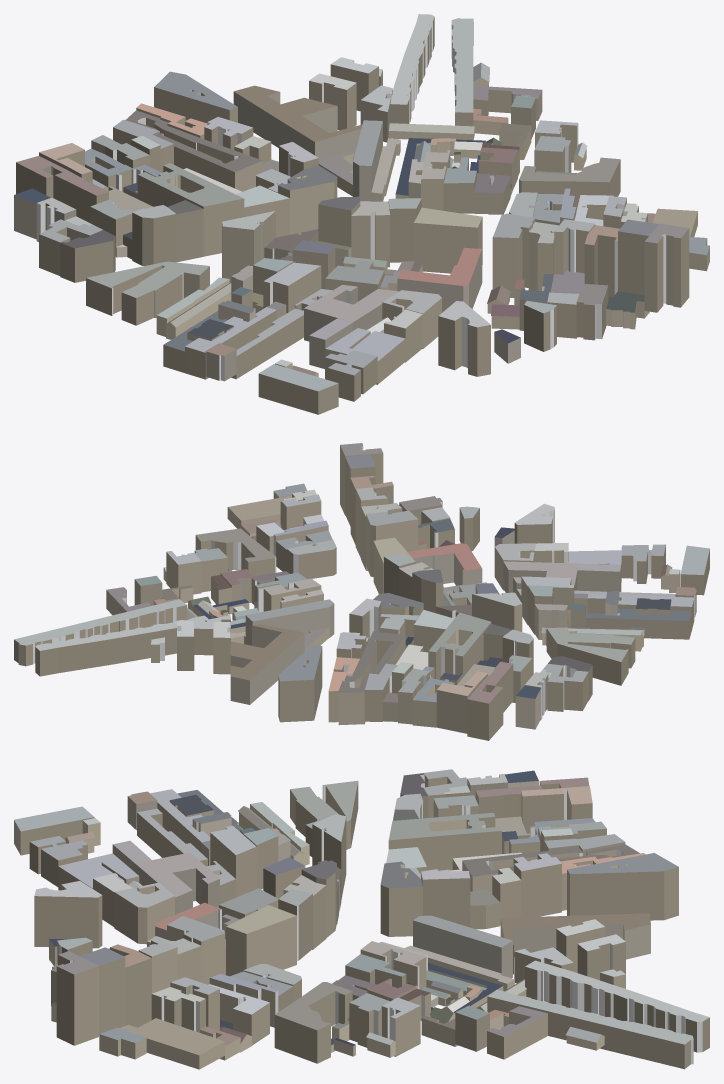
The picture shows the model from 3 angles, top to bottom: view 1: azimuth 30°, elevation 25°; view 2: azimuth 150°, elevation 25°; view 3: azimuth 270°, elevation 25°; orthographic projection. The views are drawn at different scales.
Visible parts, largest first — view 1: tuile; view 2: tuile; view 3: tuile.
Boxes of the visible parts, box(x1,y1,x2,y2) form: tuile: box(14, 14, 709, 414); tuile: box(14, 443, 709, 740); tuile: box(14, 769, 709, 1069).
Bounding box in the file's own units: 279 × 39.21 × 300.
